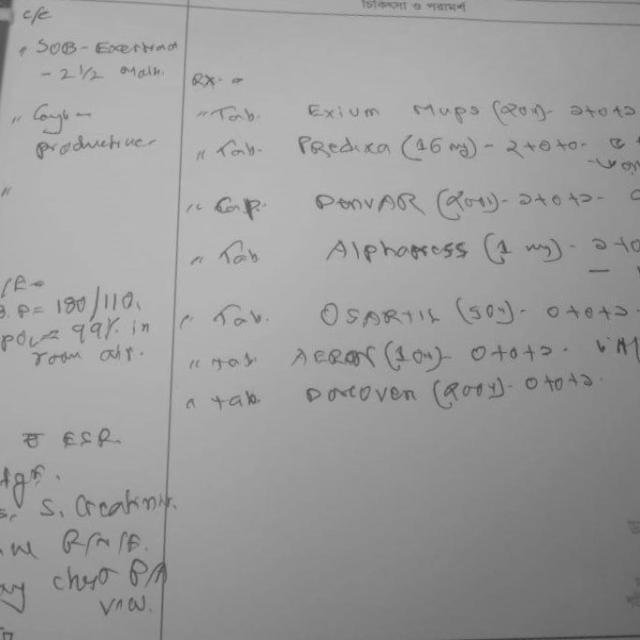medicine: (300, 92, 484, 128), (322, 232, 474, 266), (316, 296, 444, 334), (312, 186, 423, 218), (301, 380, 419, 408), (293, 130, 396, 162), (291, 342, 377, 372)
